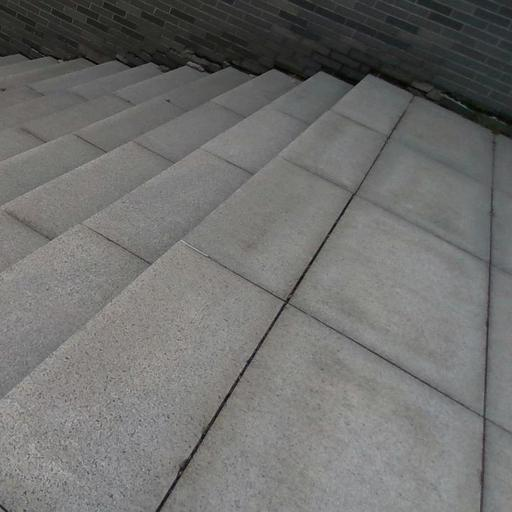stairs: (0, 56, 511, 511)
